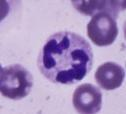N: (37, 31, 94, 84)
